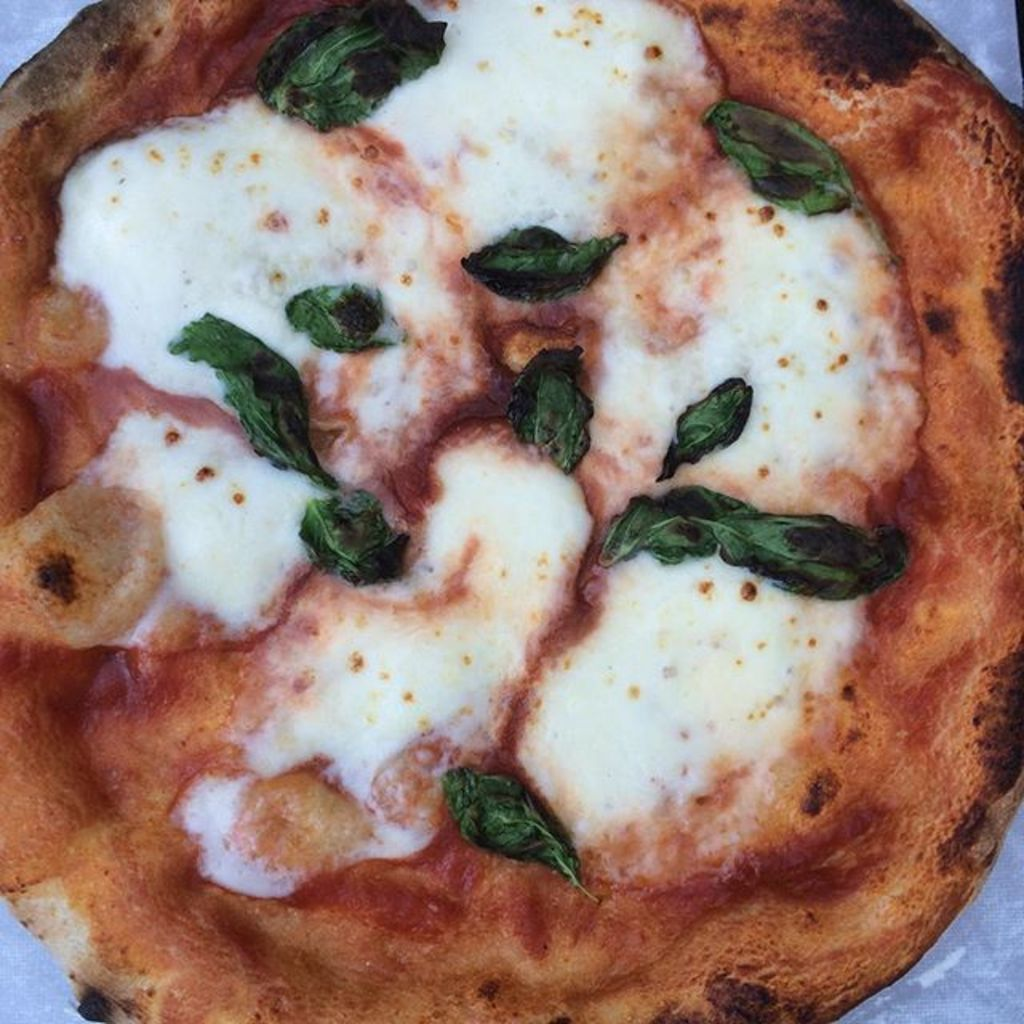Pizza: (1, 0, 1022, 1019)
